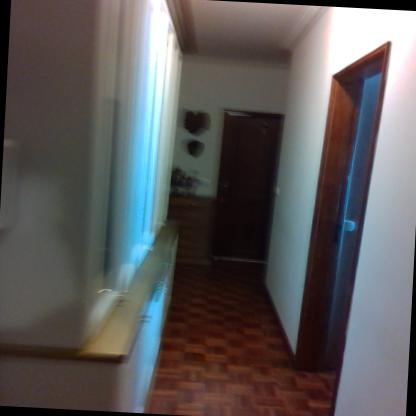closed: (204, 103, 290, 271)
